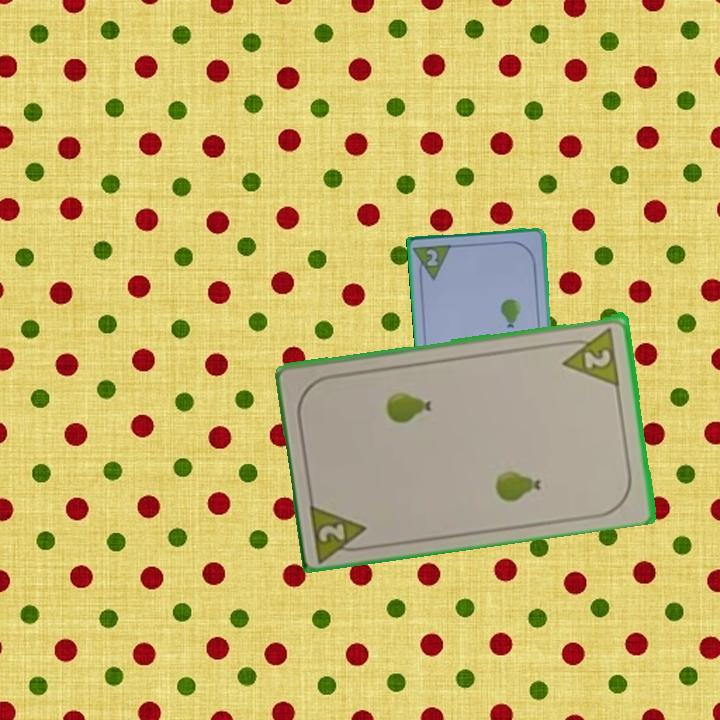2p: (306, 497, 374, 562), (412, 241, 456, 285), (581, 345, 614, 371)
